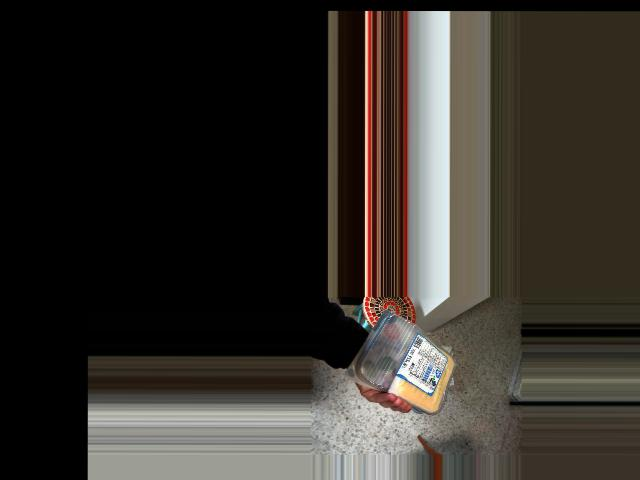cheese: (360, 313, 459, 400)
